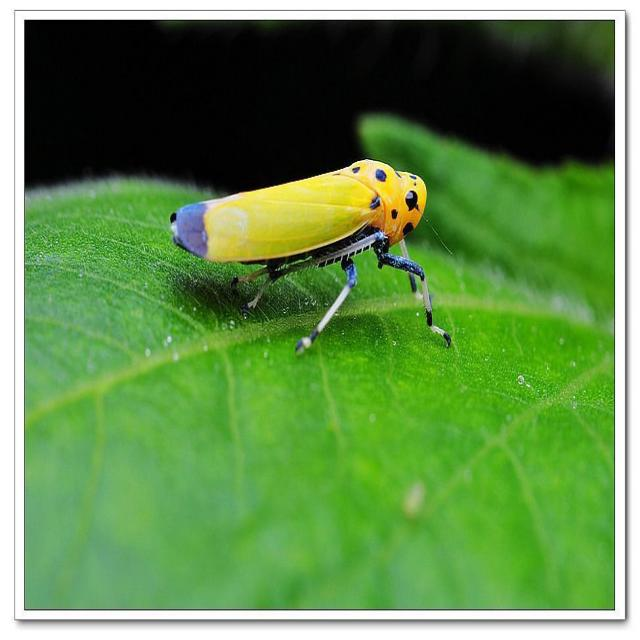Yechan: (174, 154, 452, 362)
